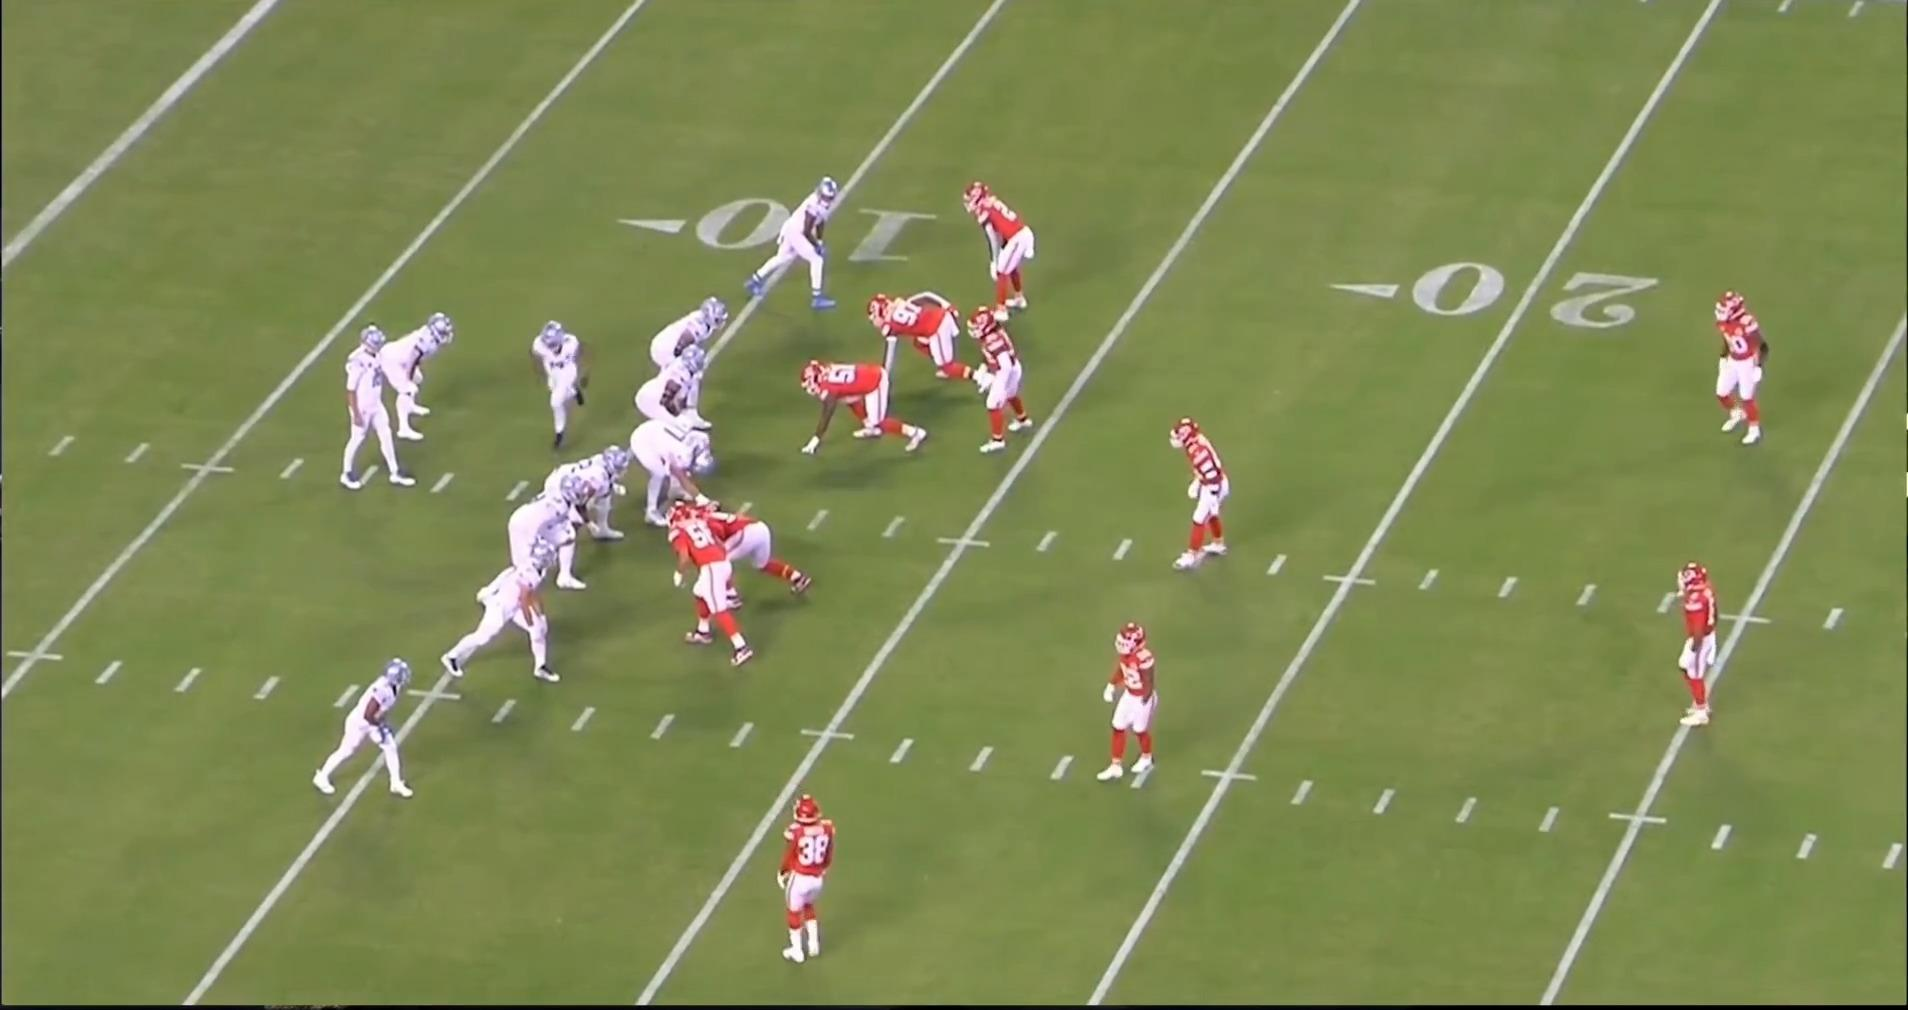defense: (662, 504, 757, 672), (684, 502, 821, 609), (794, 357, 930, 458), (772, 789, 845, 971), (1700, 284, 1769, 454), (866, 287, 983, 386), (967, 175, 1042, 323), (1100, 615, 1162, 788), (1174, 418, 1240, 577), (1671, 562, 1731, 737), (960, 306, 1028, 456)
oline: (485, 473, 589, 603), (627, 412, 719, 532), (656, 289, 738, 420), (535, 447, 625, 566), (635, 348, 715, 447)
qb: (326, 327, 414, 500)
skill: (444, 542, 573, 688), (303, 651, 418, 804), (739, 170, 849, 312), (380, 312, 454, 449), (531, 316, 594, 454)
